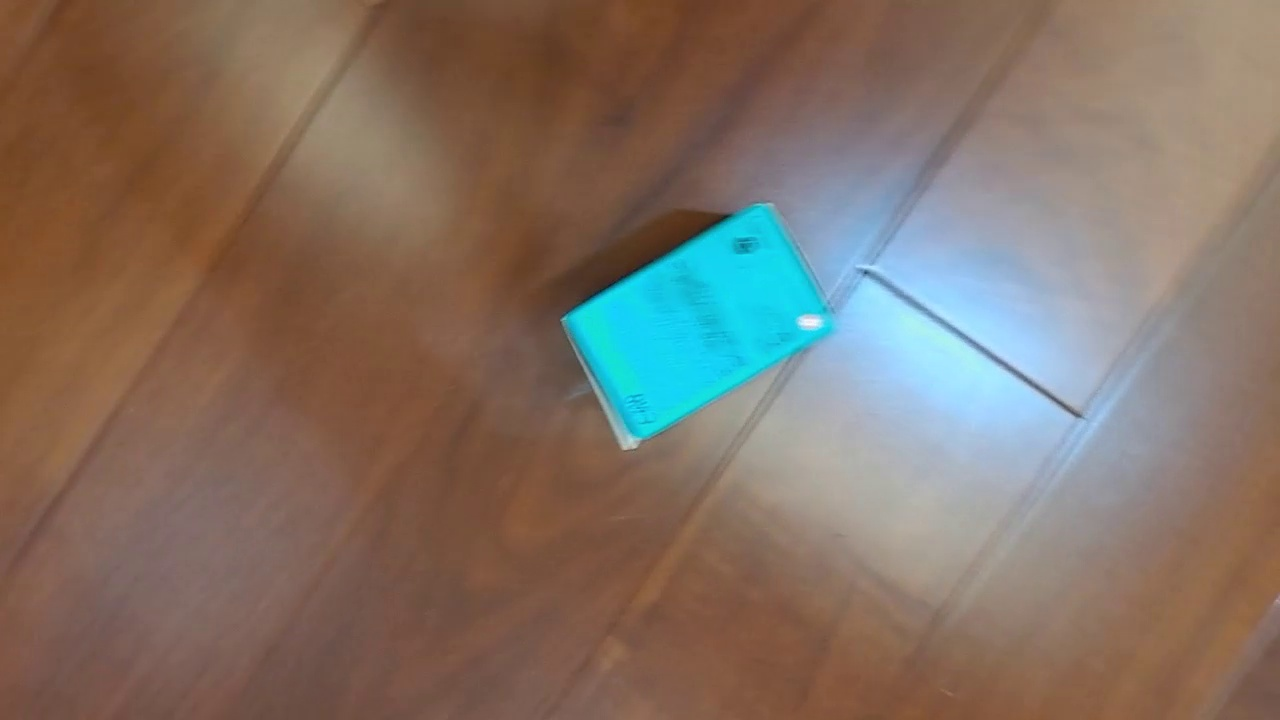webcam: (559, 200, 843, 452)
